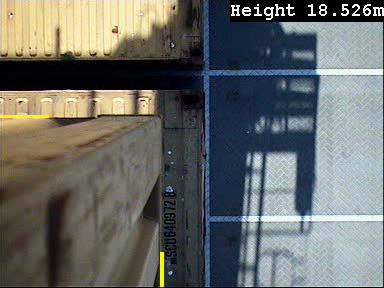groundmarker_2: (202, 95, 229, 139)
